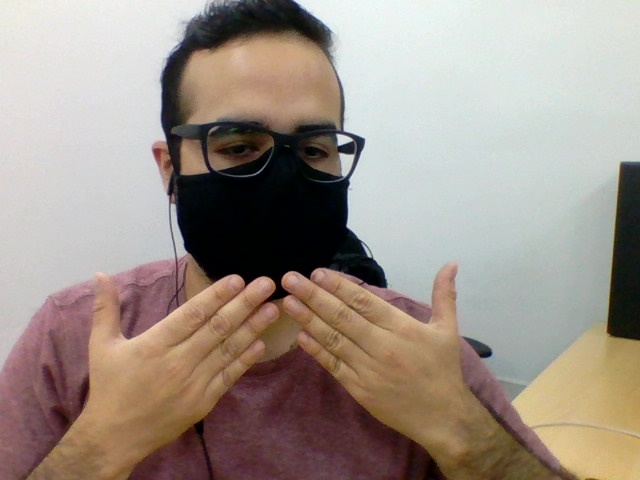ThankYou: (87, 261, 466, 451)
